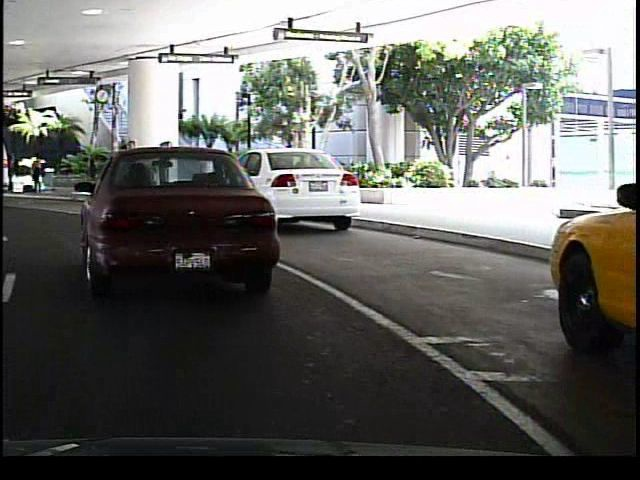person: (117, 136, 140, 200), (194, 143, 219, 194), (154, 137, 175, 195), (27, 153, 52, 197)
